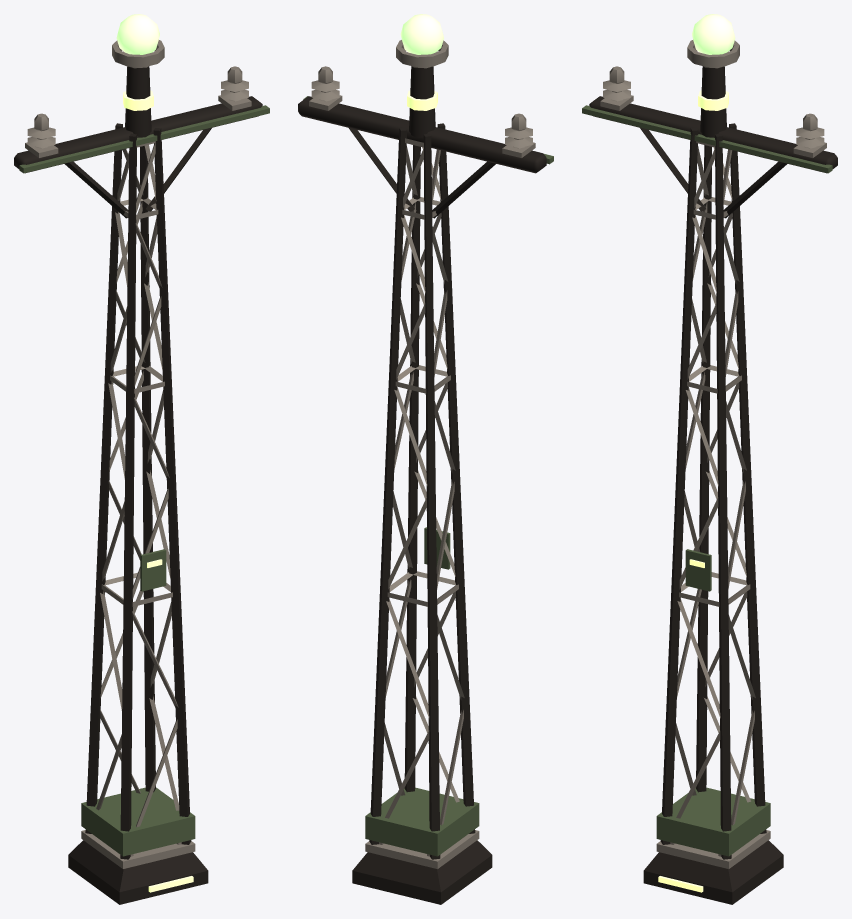
The model's file is fac_pole.glb.
3 renders of one model, left to right at view 1: azimuth 30°, elevation 25°; view 2: azimuth 150°, elevation 25°; view 3: azimuth 330°, elevation 25°, orthographic.
Visible parts, largest first — view 1: base, lamp; view 2: base, lamp; view 3: base, lamp.
Part boxes in pixels (x1,y1,x2,y2): base: [14, 51, 269, 904]; lamp: [112, 14, 164, 67]; base: [298, 51, 553, 904]; lamp: [396, 14, 448, 67]; base: [582, 51, 837, 904]; lamp: [687, 14, 739, 67].
Size of the model in its own units: 1.02 by 3.4 by 0.4248.
